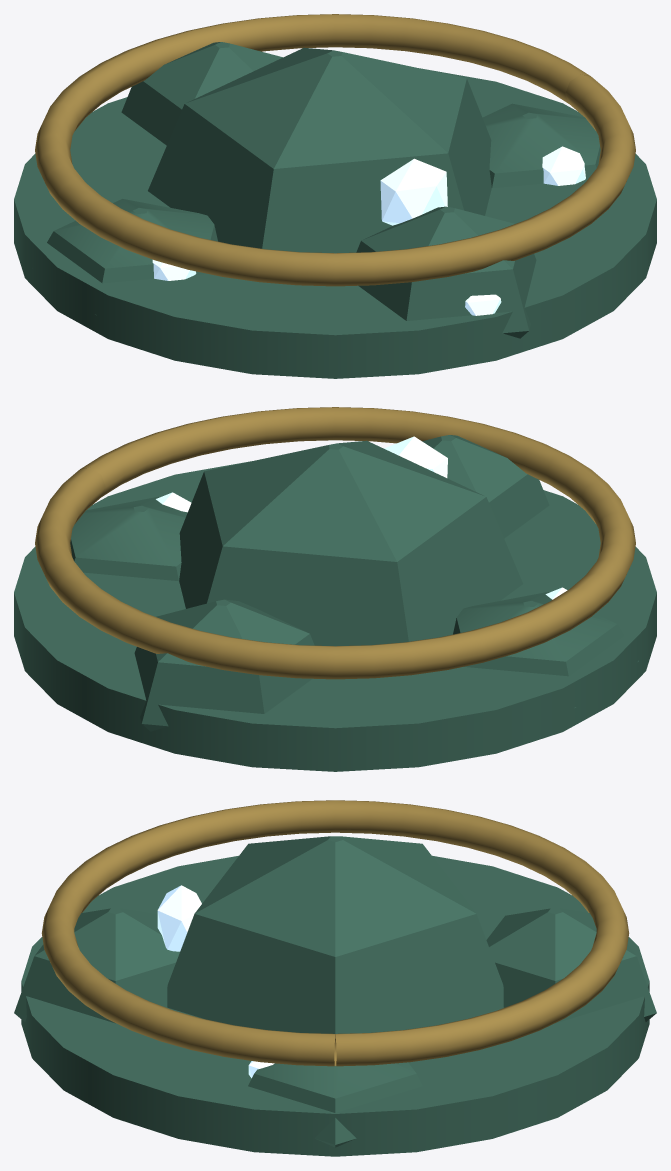
3 views of the same model, one above another, from view 1: azimuth 30°, elevation 25°; view 2: azimuth 150°, elevation 25°; view 3: azimuth 270°, elevation 25° (orthographic). The views are drawn at different scales.
Parts seen in each view (by area): view 1: Foundation drum, Faceted crystal tower, Crystal conductive halo, Faceted crystal tower.004, Faceted crystal tower.001, Faceted crystal tower.002, Faceted crystal tower.003, Central luminous node, Crystal luminous node, Crystal luminous node.003, Crystal luminous node.002; view 2: Foundation drum, Faceted crystal tower, Crystal conductive halo, Faceted crystal tower.002, Faceted crystal tower.001, Faceted crystal tower.003, Faceted crystal tower.004, Central luminous node; view 3: Foundation drum, Faceted crystal tower, Crystal conductive halo, Faceted crystal tower.002, Faceted crystal tower.004, Faceted crystal tower.001, Central luminous node.
Boxes of the visible parts, bbox=[...] form: Foundation drum: bbox=[14, 68, 656, 378]; Faceted crystal tower: bbox=[148, 47, 491, 253]; Crystal conductive halo: bbox=[35, 14, 635, 286]; Faceted crystal tower.004: bbox=[356, 206, 536, 338]; Faceted crystal tower.001: bbox=[482, 103, 600, 187]; Faceted crystal tower.002: bbox=[121, 42, 282, 145]; Faceted crystal tower.003: bbox=[32, 199, 217, 315]; Central luminous node: bbox=[380, 158, 447, 225]; Crystal luminous node: bbox=[542, 146, 585, 185]; Crystal luminous node.003: bbox=[465, 294, 501, 315]; Crystal luminous node.002: bbox=[152, 260, 196, 280]; Foundation drum: bbox=[14, 461, 656, 771]; Faceted crystal tower: bbox=[179, 440, 522, 646]; Crystal conductive halo: bbox=[35, 407, 635, 679]; Faceted crystal tower.002: bbox=[134, 599, 314, 731]; Faceted crystal tower.001: bbox=[70, 496, 187, 580]; Faceted crystal tower.003: bbox=[453, 592, 638, 708]; Faceted crystal tower.004: bbox=[422, 435, 549, 538]; Central luminous node: bbox=[384, 436, 447, 477]; Foundation drum: bbox=[21, 855, 649, 1156]; Faceted crystal tower: bbox=[167, 836, 503, 1033]; Crystal conductive halo: bbox=[41, 800, 629, 1066]; Faceted crystal tower.002: bbox=[486, 908, 656, 1023]; Faceted crystal tower.004: bbox=[14, 908, 179, 1023]; Faceted crystal tower.001: bbox=[248, 1062, 422, 1147]; Central luminous node: bbox=[157, 885, 201, 951].
Bounding box in the file's own units: 2.04 × 0.65 × 2.05.
